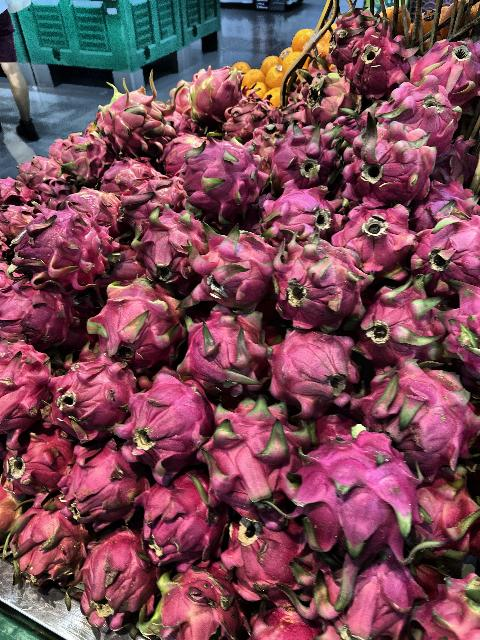buah-naga-belum-matang: (200, 406, 306, 514), (312, 562, 418, 640), (92, 280, 184, 364), (81, 525, 149, 631), (150, 566, 240, 640), (14, 502, 82, 596), (95, 82, 170, 156), (295, 64, 363, 124), (59, 188, 128, 228), (192, 66, 238, 124), (215, 94, 273, 136), (98, 162, 163, 196), (236, 120, 284, 162), (157, 129, 203, 171)
buah-naga-matang: (309, 414, 435, 568), (361, 364, 477, 480), (114, 366, 206, 472), (268, 235, 368, 329), (220, 516, 314, 606), (182, 222, 272, 314), (174, 310, 268, 396), (264, 328, 359, 412), (50, 346, 132, 442), (13, 212, 113, 290), (134, 478, 226, 562), (346, 121, 432, 209), (55, 448, 142, 532), (360, 284, 442, 370), (0, 268, 78, 352), (184, 141, 266, 219), (376, 78, 470, 146), (125, 203, 205, 281), (330, 196, 408, 268), (1, 338, 56, 436), (410, 213, 479, 285), (408, 34, 480, 102), (259, 127, 341, 185), (260, 182, 334, 240), (4, 432, 78, 488), (342, 37, 404, 95)
